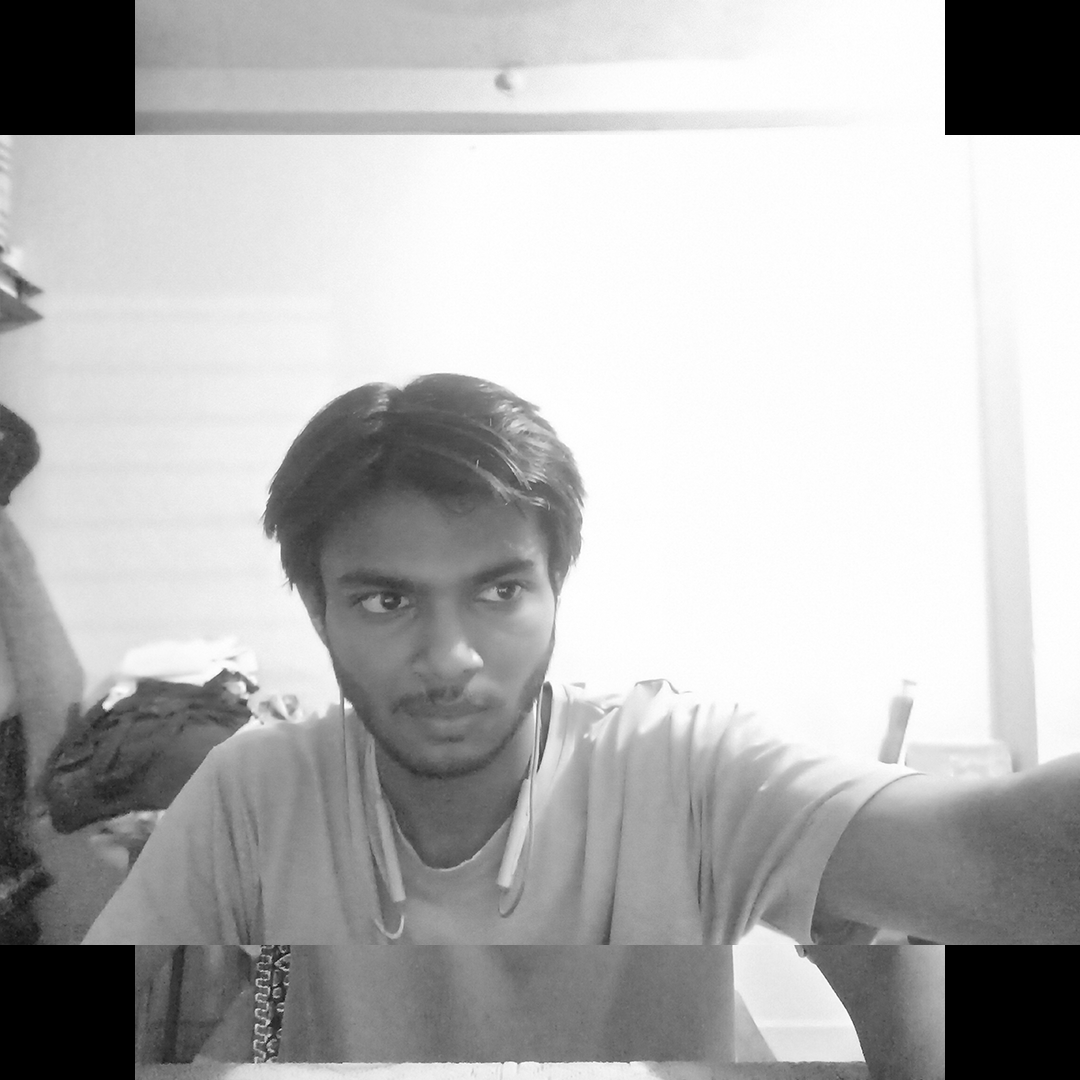Focused: (184, 256, 682, 935)
